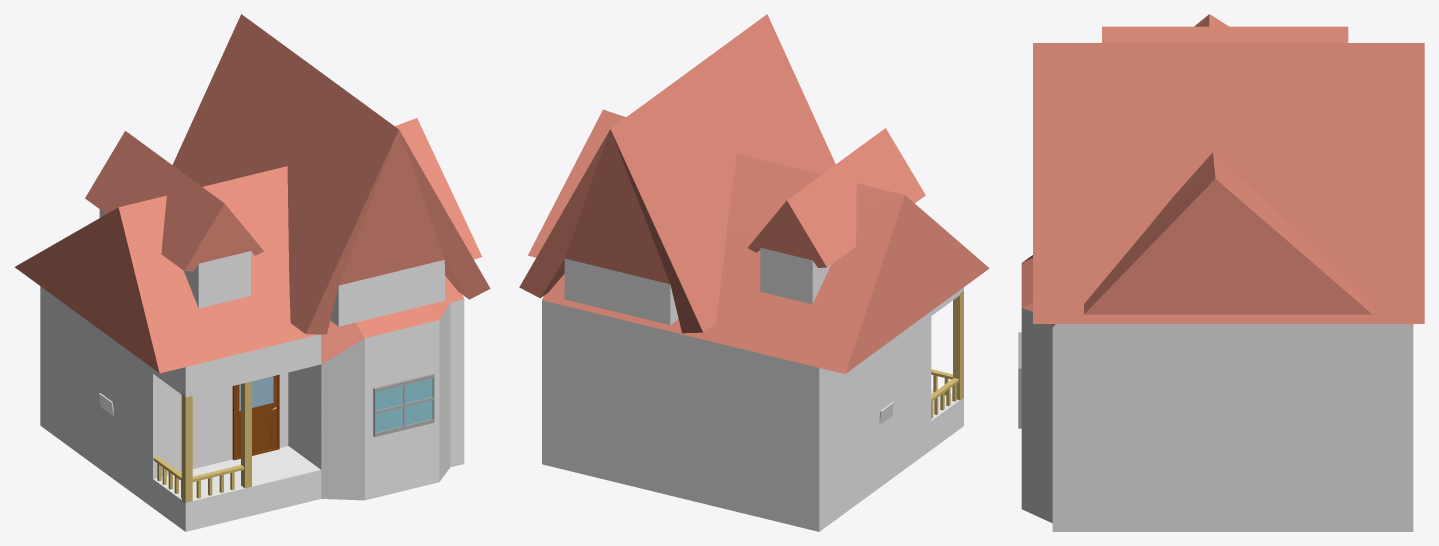
File: house.gltf
The picture shows the model from 3 angles, left to right: view 1: azimuth 30°, elevation 25°; view 2: azimuth 150°, elevation 25°; view 3: azimuth 270°, elevation 25°; orthographic projection. The views are drawn at different scales.
Parts seen in each view (by area): view 1: house1, house3, house2, Brown Door, 平面.002, 立方体; view 2: house1, house3, house2; view 3: house1, house3, house2.
Boxes of the visible parts, x1,y1,x2,y2 form: house1: (14,118,482,531); house3: (172,14,490,334); house2: (85,131,263,308); Brown Door: (232,374,279,460); 平面.002: (376,378,432,432); 立方体: (373,373,434,436); house1: (528,109,989,531); house3: (519,14,835,333); house2: (748,128,925,304); house1: (1021,14,1413,531); house3: (1033,43,1424,323); house2: (1102,26,1348,42).
Size of the model in its own units: 14.54 by 14.84 by 12.28.
